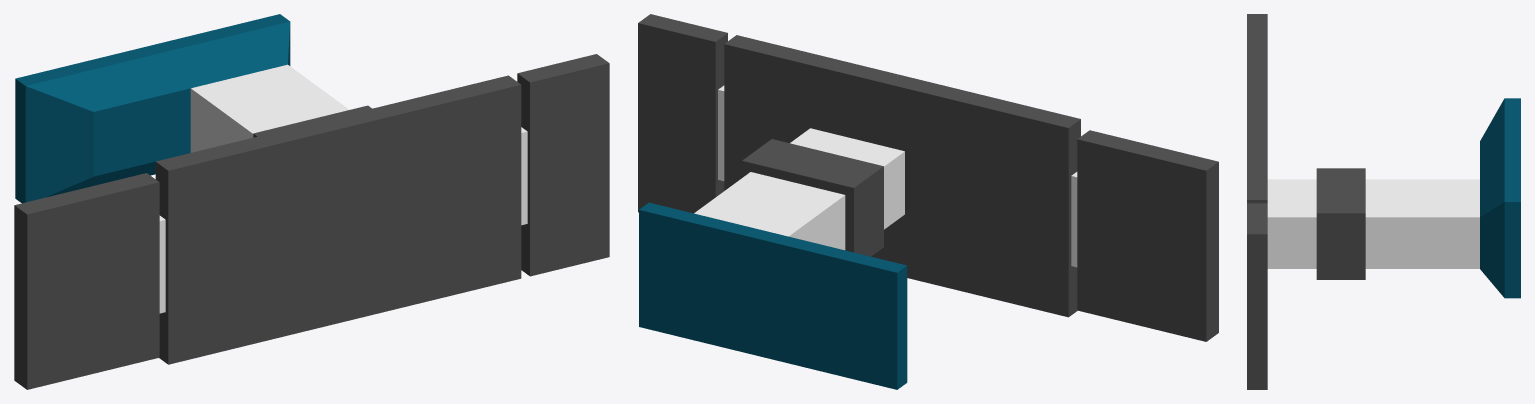
The picture shows the model from 3 angles, left to right: view 1: azimuth 30°, elevation 25°; view 2: azimuth 150°, elevation 25°; view 3: azimuth 270°, elevation 25°; orthographic projection. The views are drawn at different scales.
Visible parts, largest first — view 1: coords_ME_ID49_MA_material, coords_ME_ID37_MA_material, coords_ME_ID55_MA_material_21, coords_ME_ID19_MA_material, coords_ME_ID31_MA_Color_000, coords_ME_ID11_MA_Color_000, coords_ME_ID25_MA_Color_000, coords_ME_ID3_MA_material; view 2: coords_ME_ID49_MA_material, coords_ME_ID55_MA_material_21, coords_ME_ID37_MA_material, coords_ME_ID19_MA_material, coords_ME_ID3_MA_material, coords_ME_ID31_MA_Color_000, coords_ME_ID43_MA_Color_000, coords_ME_ID25_MA_Color_000, coords_ME_ID11_MA_Color_000; view 3: coords_ME_ID31_MA_Color_000, coords_ME_ID55_MA_material_21, coords_ME_ID3_MA_material, coords_ME_ID43_MA_Color_000, coords_ME_ID19_MA_material, coords_ME_ID49_MA_material, coords_ME_ID37_MA_material.
Part boxes in pixels (<box>): coords_ME_ID49_MA_material: <box>155,75,521,364</box>; coords_ME_ID37_MA_material: <box>14,173,159,389</box>; coords_ME_ID55_MA_material_21: <box>15,14,290,203</box>; coords_ME_ID19_MA_material: <box>517,54,609,276</box>; coords_ME_ID31_MA_Color_000: <box>190,64,349,152</box>; coords_ME_ID11_MA_Color_000: <box>159,215,165,313</box>; coords_ME_ID25_MA_Color_000: <box>521,127,527,225</box>; coords_ME_ID3_MA_material: <box>253,105,371,137</box>; coords_ME_ID49_MA_material: <box>724,35,1080,317</box>; coords_ME_ID55_MA_material_21: <box>639,202,907,389</box>; coords_ME_ID37_MA_material: <box>1077,130,1218,341</box>; coords_ME_ID19_MA_material: <box>638,14,727,213</box>; coords_ME_ID3_MA_material: <box>742,139,883,256</box>; coords_ME_ID31_MA_Color_000: <box>694,172,845,250</box>; coords_ME_ID43_MA_Color_000: <box>790,128,904,229</box>; coords_ME_ID25_MA_Color_000: <box>718,85,724,181</box>; coords_ME_ID11_MA_Color_000: <box>1071,172,1077,267</box>; coords_ME_ID31_MA_Color_000: <box>1365,179,1479,268</box>; coords_ME_ID55_MA_material_21: <box>1480,98,1520,298</box>; coords_ME_ID3_MA_material: <box>1316,168,1365,279</box>; coords_ME_ID43_MA_Color_000: <box>1267,179,1316,268</box>; coords_ME_ID19_MA_material: <box>1247,203,1267,389</box>; coords_ME_ID49_MA_material: <box>1247,62,1267,203</box>; coords_ME_ID37_MA_material: <box>1247,14,1267,61</box>.
Size of the model in its own units: 23.39 by 7.44 by 11.87.
